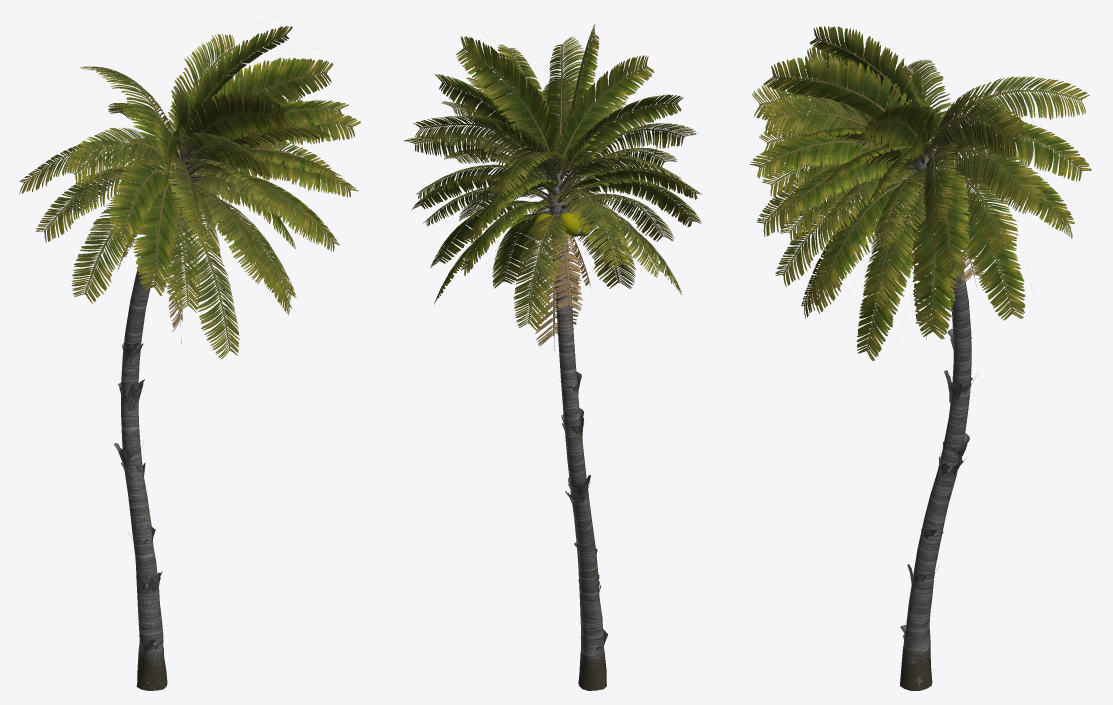
File: cargo_palm_c.glb
3 views of the same model, side by side, from view 1: azimuth 30°, elevation 25°; view 2: azimuth 150°, elevation 25°; view 3: azimuth 270°, elevation 25° (orthographic). The views are drawn at different scales.
Parts seen in each view (by area): view 1: KB3D_TIS_Palm_C_Main; view 2: KB3D_TIS_Palm_C_Main; view 3: KB3D_TIS_Palm_C_Main.
Part boxes in pixels (x1=…): KB3D_TIS_Palm_C_Main: x1=19, y1=26, x2=360, y2=690; KB3D_TIS_Palm_C_Main: x1=404, y1=24, x2=701, y2=690; KB3D_TIS_Palm_C_Main: x1=749, y1=26, x2=1091, y2=690.
Bounding box in the file's own units: 4.08 × 8.87 × 4.22.
Materials: 1 (1 with a texture image).
